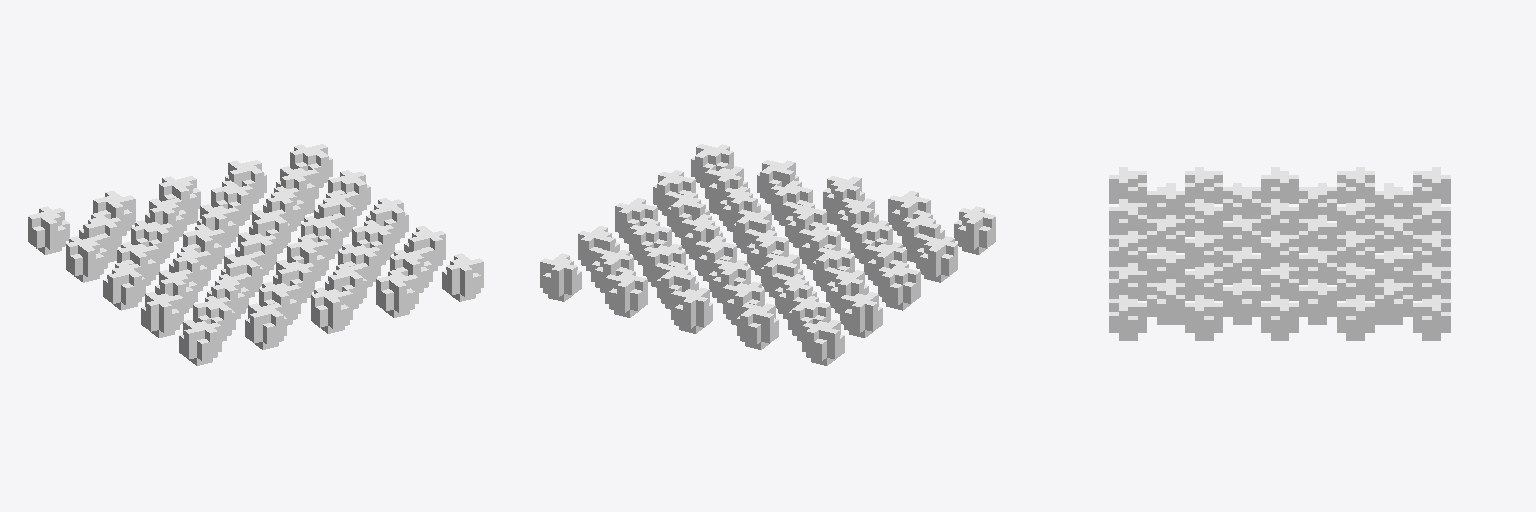
File: REPOLHO3.obj
3 renders of one model, left to right at view 1: azimuth 30°, elevation 25°; view 2: azimuth 150°, elevation 25°; view 3: azimuth 270°, elevation 25°, orthographic.
Parts seen in each view (by area): view 1: object 1; view 2: object 1; view 3: object 1.
Boxes of the visible parts, box(x1,y1,x2,y2) form: object 1: box(28, 144, 483, 365); object 1: box(540, 144, 995, 365); object 1: box(1109, 167, 1450, 340).
Size of the model in its own units: 3.6 by 0.4 by 3.6.